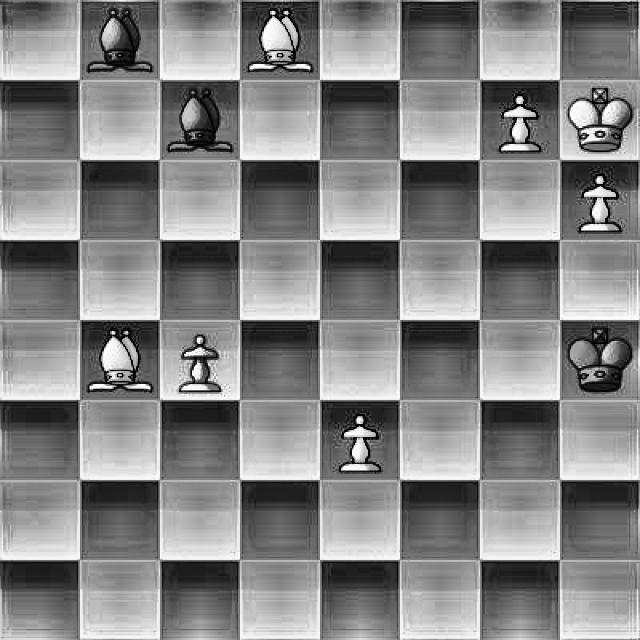black bishop: (81, 4, 158, 80), (163, 81, 236, 160)
black king: (559, 320, 638, 396)
white bishop: (82, 323, 159, 398)
white king: (560, 81, 639, 160)
white pawn: (482, 80, 559, 161), (563, 160, 639, 240), (240, 2, 318, 78), (322, 402, 392, 476), (167, 325, 236, 399)
